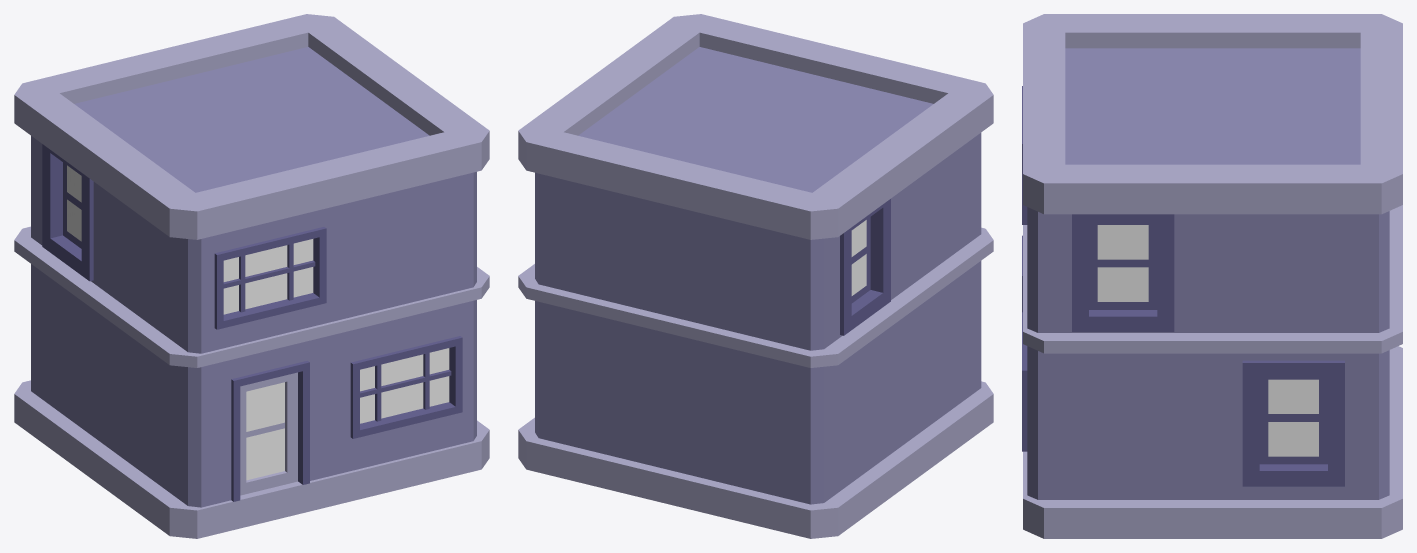
The model's file is Building_1.fbx.
3 renders of one model, left to right at view 1: azimuth 30°, elevation 25°; view 2: azimuth 150°, elevation 25°; view 3: azimuth 270°, elevation 25°, orthographic. The views are drawn at different scales.
Parts seen in each view (by area): view 1: mergedBlocks; view 2: mergedBlocks; view 3: mergedBlocks.
Boxes of the visible parts, left/top/right/bottom form: mergedBlocks: left=14, top=14, right=489, bottom=538; mergedBlocks: left=518, top=14, right=993, bottom=538; mergedBlocks: left=1022, top=14, right=1402, bottom=538.
Bounding box in the file's own units: 23.51 × 23 × 22.33.
